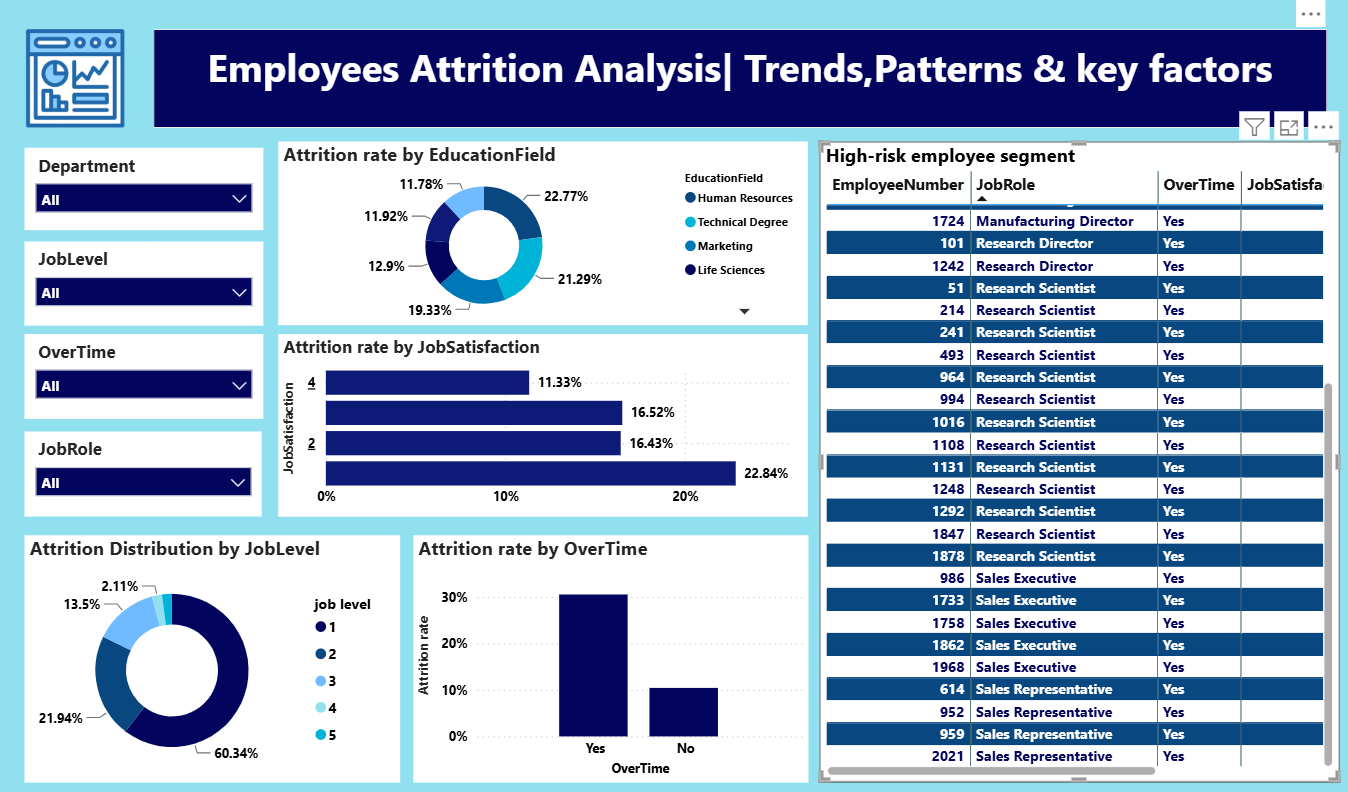

This screenshot's page, from the dashboard's own definition file:
{"tool":"powerbi","page":{"name":"Attrition Analysis","canvas":[1280,771],"ordinal":2},"visuals":[{"type":"textbox","title":"Employees Attrition Analysis| Trends,Patterns & key factors","box":[147.3,46.5,1104.6,93],"z":0},{"type":"donutChart","fields":{"Y":["employees.Attrition rate"],"Category":["employees.EducationField"]},"box":[264.8,152.4,498.7,173.1],"z":1000},{"type":"donutChart","title":"Attrition Distribution by JobLevel","fields":{"Category":["employees.JobLevel"],"Y":["employees.Attrition count"]},"box":[25.8,523.2,354,232.5],"z":2000},{"type":"clusteredBarChart","fields":{"Category":["employees.JobSatisfaction"],"Y":["employees.Attrition rate"]},"box":[264.8,334.6,498.7,171.8],"z":3000},{"type":"clusteredColumnChart","fields":{"Category":["employees.OverTime"],"Y":["employees.Attrition rate"]},"box":[391.4,523.2,372.1,232.5],"z":4000},{"type":"tableEx","title":"High-risk employee segment","fields":{"Values":["employees.EmployeeNumber","employees.JobRole","employees.OverTime","employees.JobSatisfaction","employees.YearsAtCompany","employees.Attrition"]},"box":[773.8,152.4,489.6,603.3],"z":5000},{"type":"image","box":[0,46.5,147.3,93],"z":6000},{"type":"slicer","fields":{"Values":["employees.Department"]},"box":[25.8,158.9,224.8,77.5],"z":7000},{"type":"slicer","fields":{"Values":["employees.OverTime"]},"box":[25.8,334.6,224.8,80.1],"z":8000},{"type":"slicer","fields":{"Values":["employees.JobRole"]},"box":[25.8,426.3,223.5,80.1],"z":9000},{"type":"slicer","fields":{"Values":["employees.JobLevel"]},"box":[25.8,246.8,224.8,78.8],"z":10000}]}

Visuals, with their boxes in screenshot pixels (x1, y1, x2, y2), scaled from the page's 1280x771 canvas onto the 1348x792 screenshot:
"Employees Attrition Analysis| Trends,Patterns & key factors" textbox: 155,48,1318,143
donutChart - employees.Attrition rate x employees.EducationField: 279,157,804,334
"Attrition Distribution by JobLevel" donutChart: 27,537,400,776
clusteredBarChart - employees.JobSatisfaction x employees.Attrition rate: 279,344,804,520
clusteredColumnChart - employees.OverTime x employees.Attrition rate: 412,537,804,776
"High-risk employee segment" tableEx: 815,157,1331,776
image: 0,48,155,143
slicer - employees.Department: 27,163,264,243
slicer - employees.OverTime: 27,344,264,426
slicer - employees.JobRole: 27,438,263,520
slicer - employees.JobLevel: 27,254,264,334
